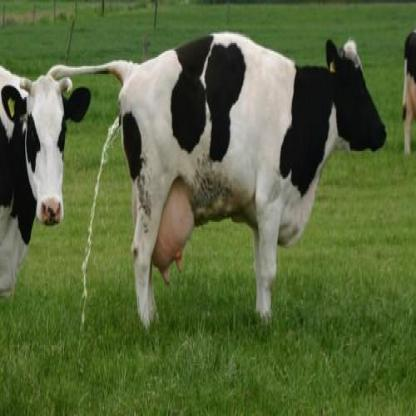cow: (121, 32, 388, 328), (0, 68, 92, 296)
